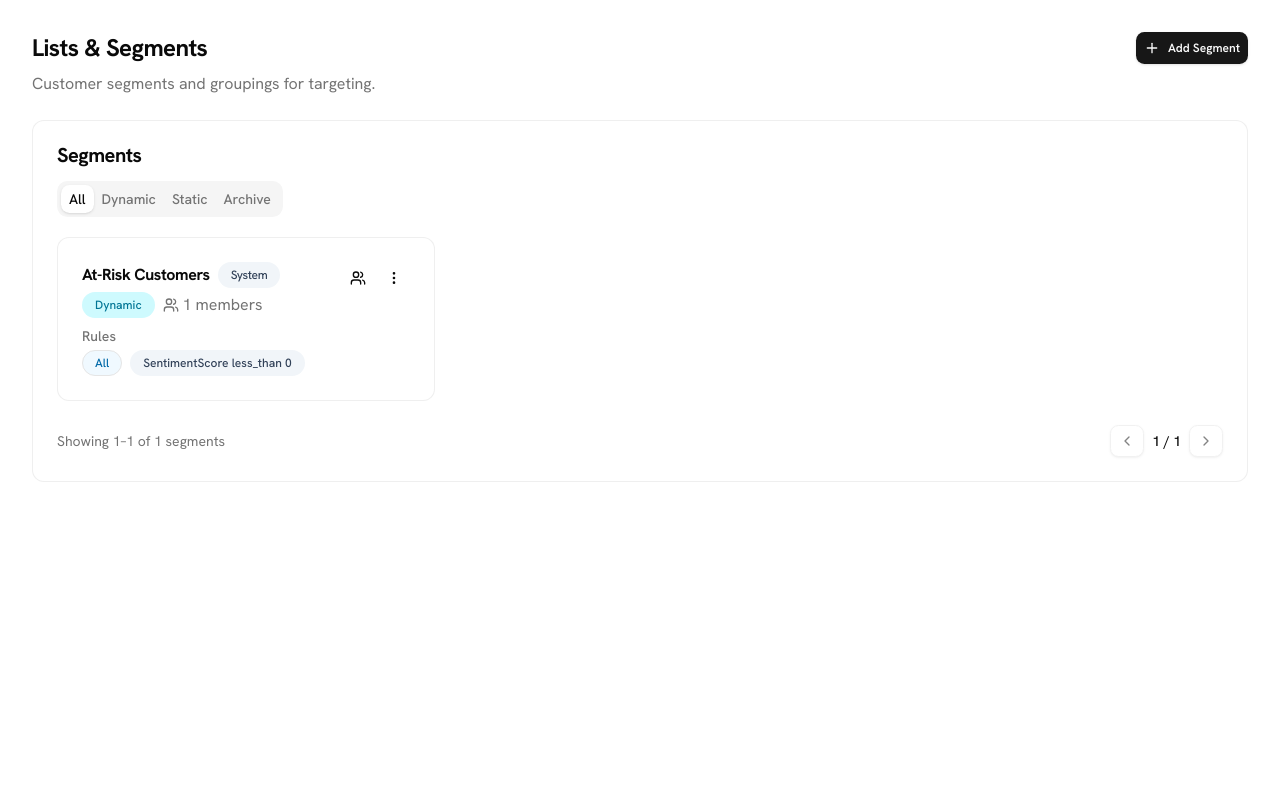
SegmentsListPage › shows membership view when View Members button is clicked
expect the text "At-Risk Customers" is shown: met, box top-left (82, 264), bottom-right (210, 285)
Note: Click the view members button
What coordinates should you click on to do the following:
click the button titled "View members"
I would click on:
 (358, 278)
Its box is top-left (342, 262), bottom-right (374, 294).
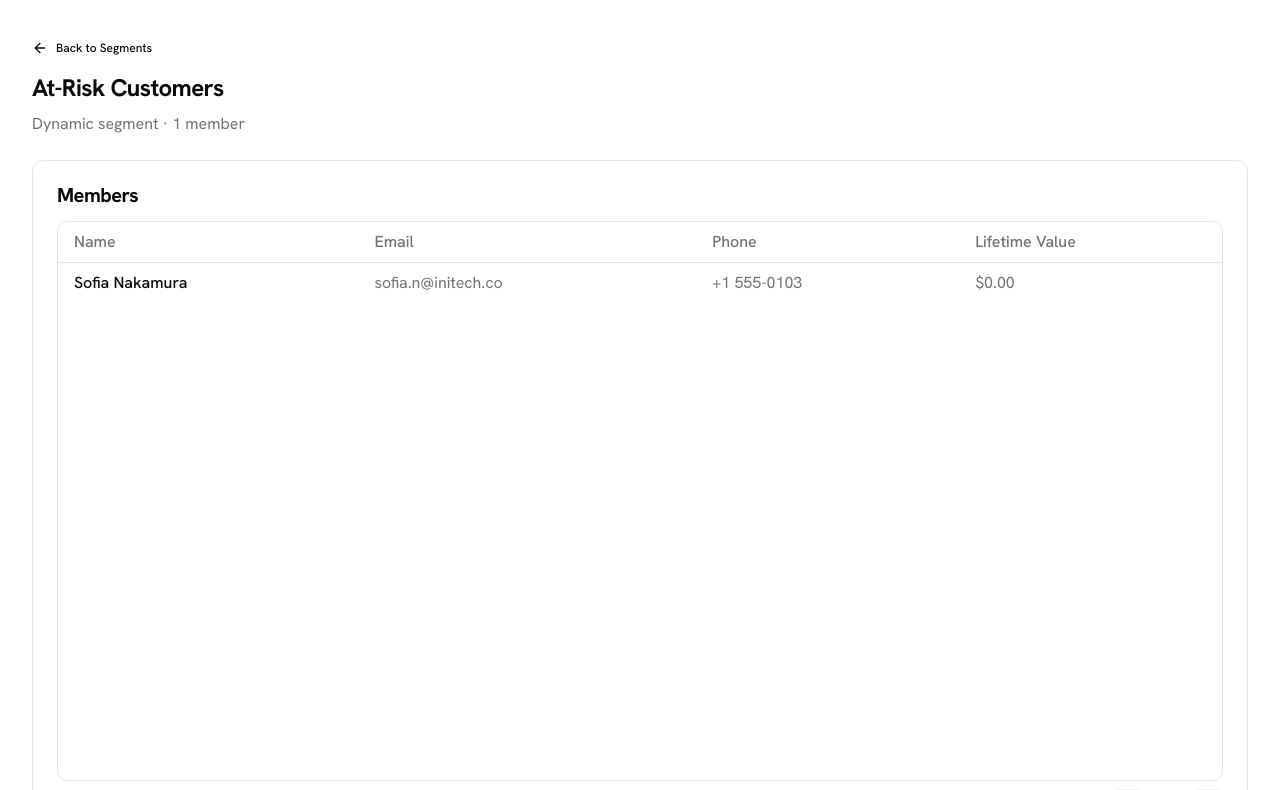
expect the text "Sofia Nakamura" is shown: met, box top-left (58, 262), bottom-right (358, 302)
expect the text "sofia.n@initech.co" is shown: met, box top-left (358, 262), bottom-right (696, 302)
expect the button "Back to Segments" is shown: met, box top-left (24, 32), bottom-right (160, 64)
